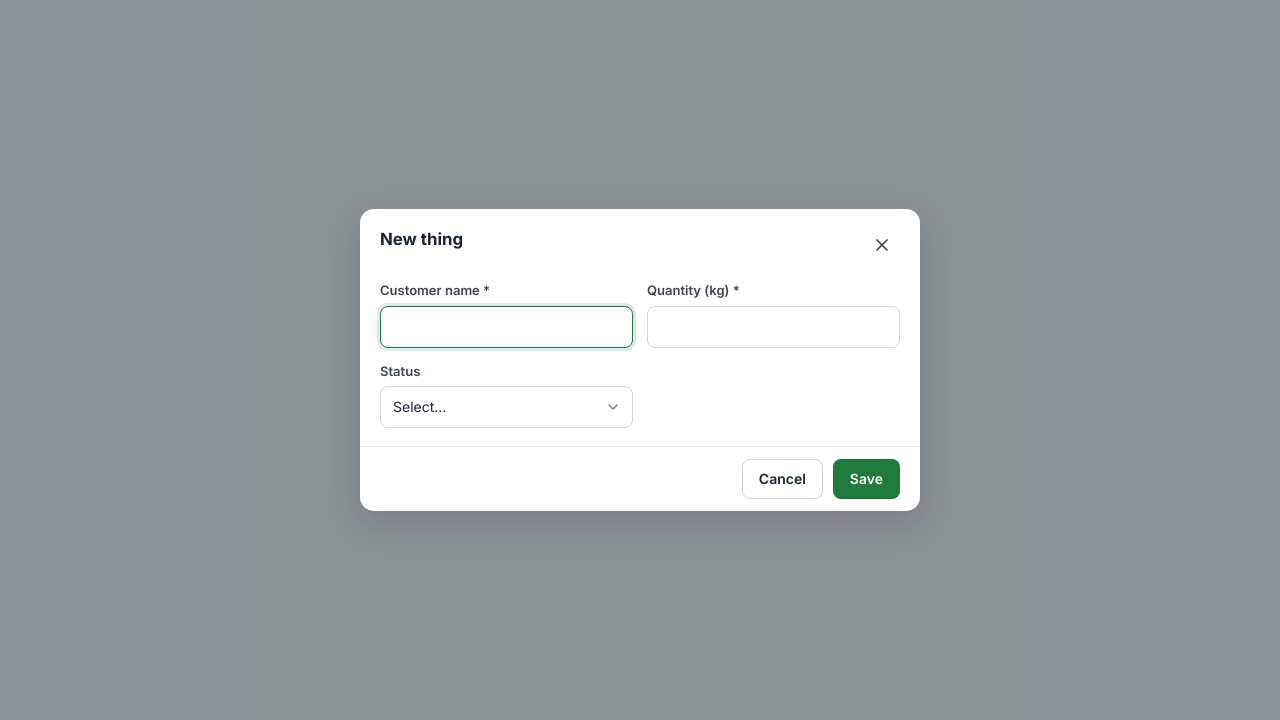
Test case: FormModal › shows other server errors as a banner
Type "Ravi" into the field labelled "Customer name *" at (506, 326), box [380, 306, 633, 348]
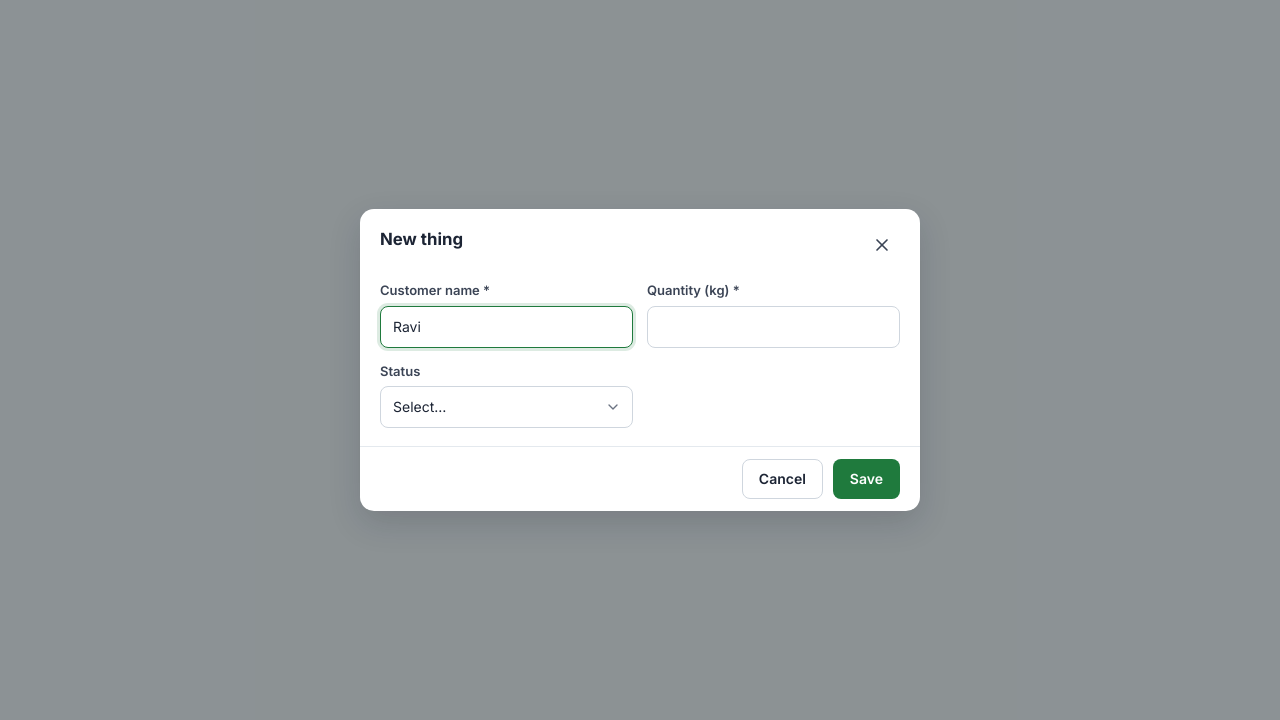
Type "5" into the number field labelled "Quantity (kg) *" at (774, 326), box [647, 306, 900, 348]
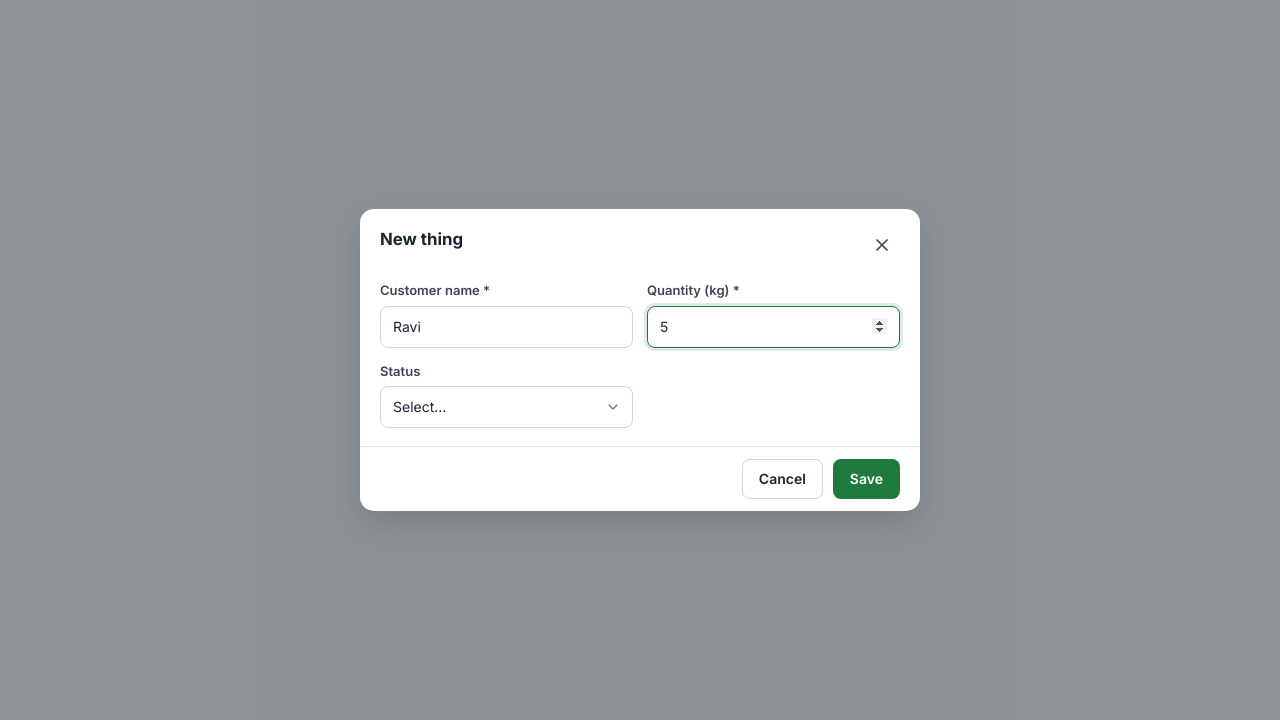
Click the button "Save" at (866, 479), box [833, 459, 900, 499]
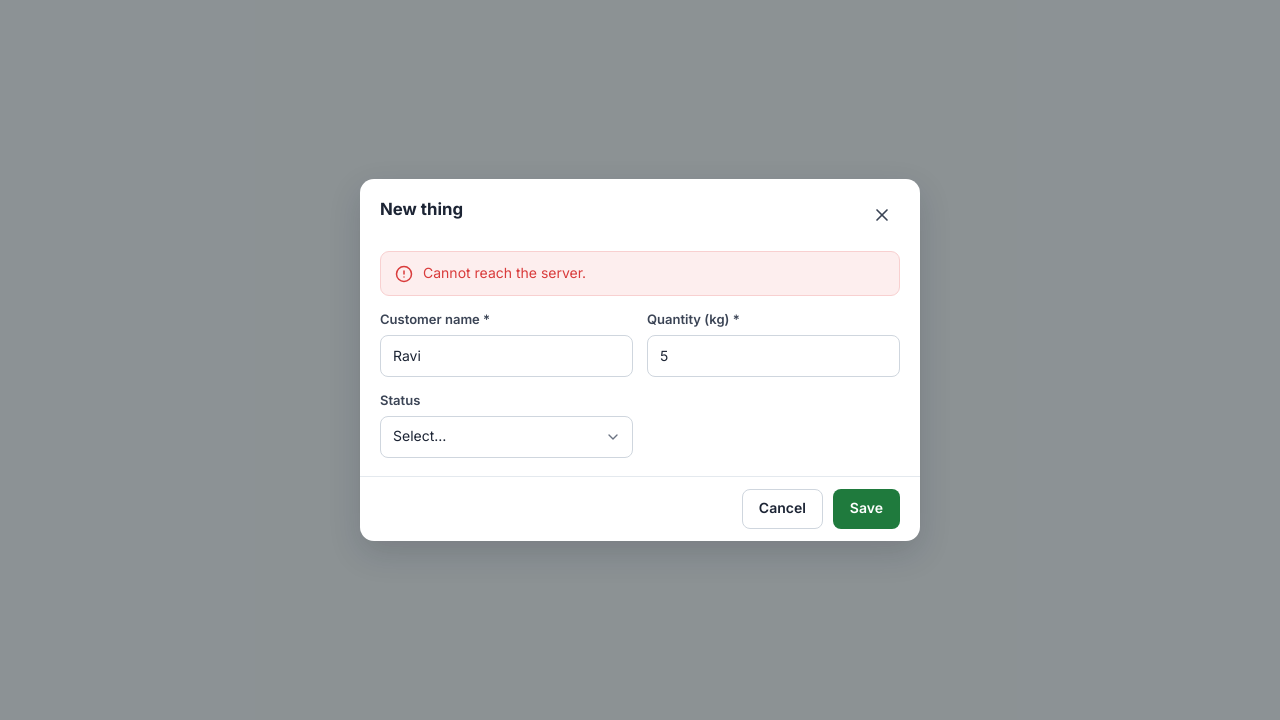
Expected: the message reads "Cannot reach the server.", [423, 264, 586, 282]
